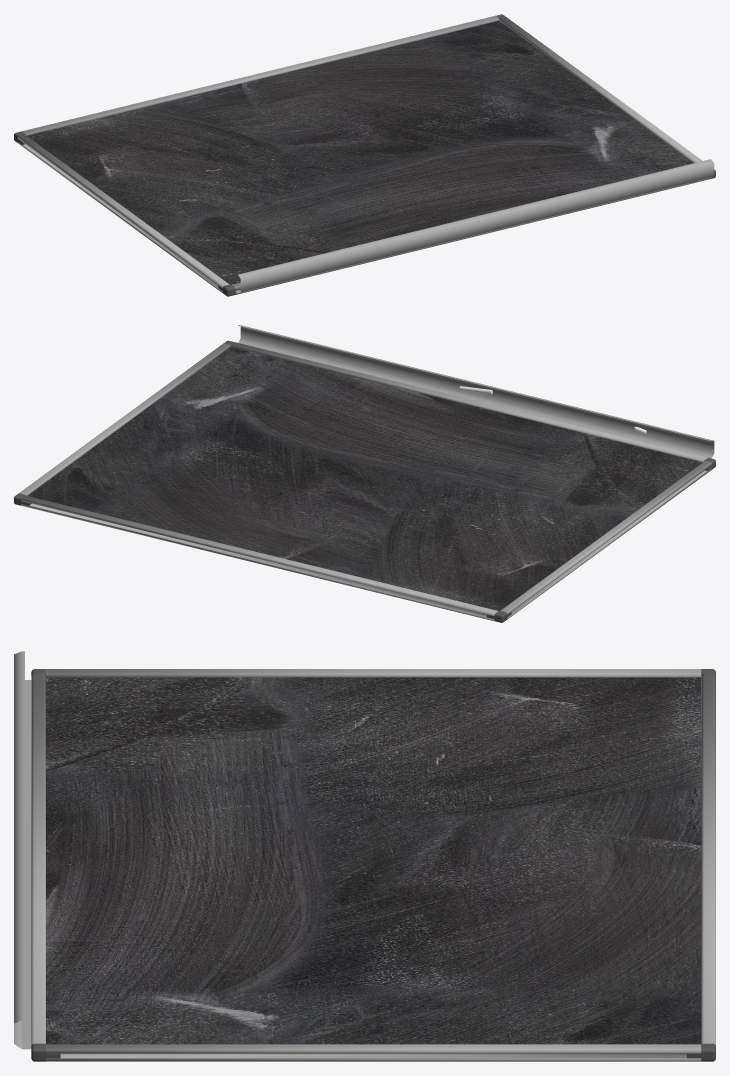
Rendered from Pizarron.glb.
3 views of the same model, one above another, from view 1: azimuth 30°, elevation 25°; view 2: azimuth 150°, elevation 25°; view 3: azimuth 270°, elevation 25° (orthographic). The views are drawn at different scales.
Parts seen in each view (by area): view 1: Board.003, Holder.001, Frame.015, Frame.012, Frame.013, Frame.014; view 2: Board.003, Holder.001, Frame.015, Frame.014, Frame.012, Frame.013; view 3: Board.003, Frame.013, Holder.001, Frame.012, Frame.014, Frame.015.
Boxes of the visible parts, x1,y1,x2,y2 form: Board.003: [27, 20, 693, 284]; Holder.001: [235, 159, 714, 293]; Frame.015: [22, 15, 499, 135]; Frame.012: [17, 134, 229, 293]; Frame.013: [499, 17, 702, 162]; Frame.014: [231, 178, 708, 294]; Board.003: [27, 347, 702, 610]; Holder.001: [238, 325, 714, 458]; Frame.015: [21, 495, 498, 621]; Frame.014: [230, 342, 707, 461]; Frame.012: [500, 460, 712, 619]; Frame.013: [19, 343, 230, 495]; Board.003: [46, 677, 701, 1044]; Frame.013: [46, 1044, 701, 1061]; Holder.001: [14, 651, 31, 1049]; Frame.012: [46, 669, 701, 677]; Frame.014: [31, 674, 45, 1045]; Frame.015: [701, 674, 715, 1045].
Bounding box in the file's own units: 1.24 × 0.0547 × 0.9637.
5 materials, 1 textured.
